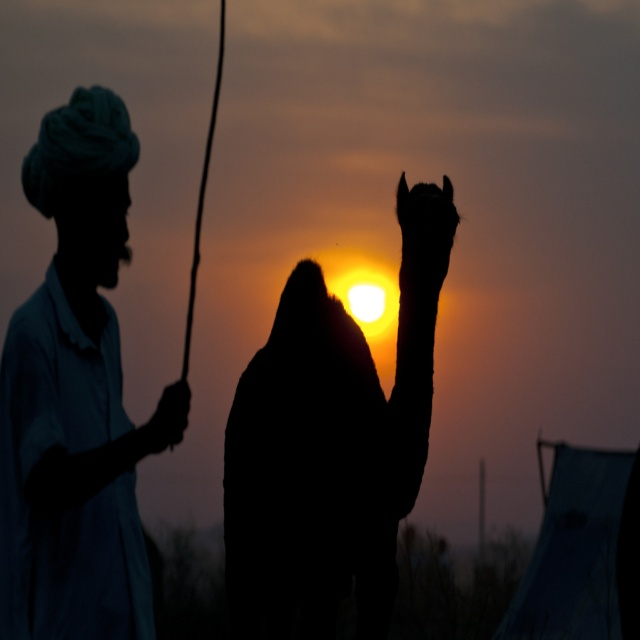Camel: (224, 167, 470, 639)
